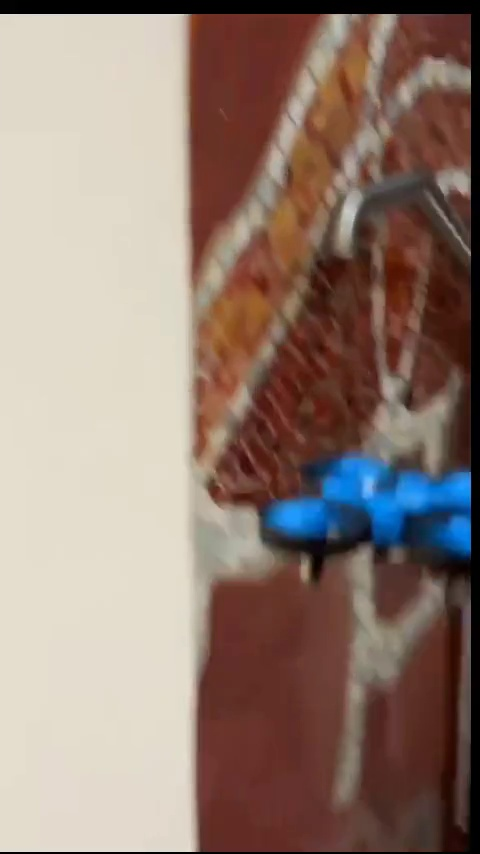drone: (266, 455, 479, 612)
